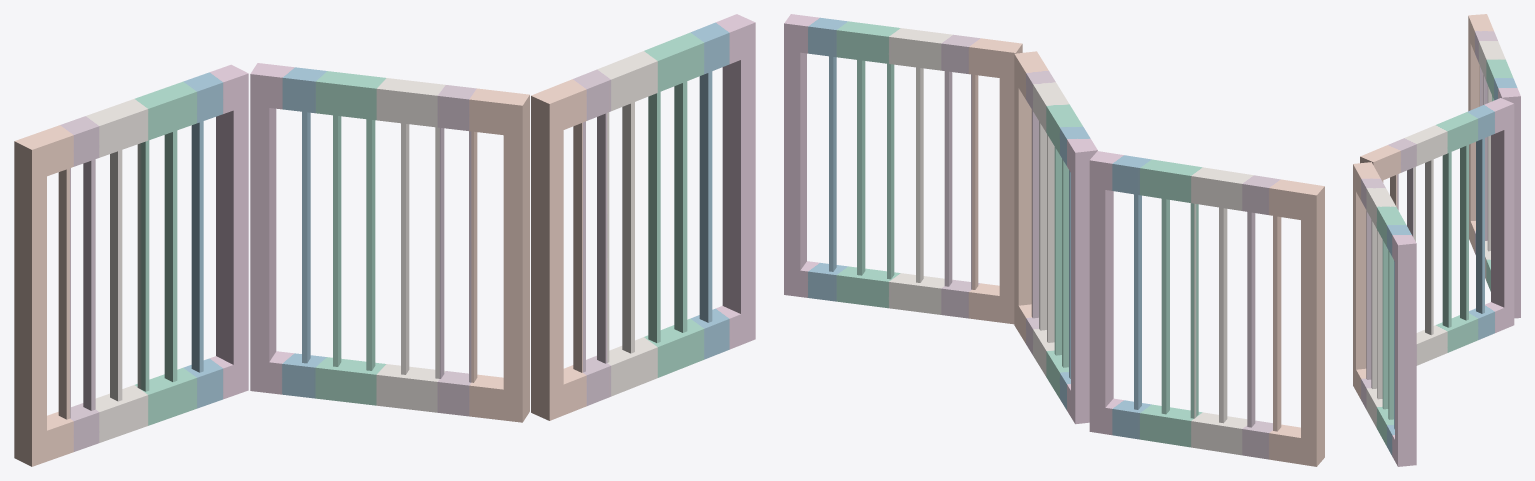
Rendered from CatGate.fbx.
3 views of the same model, side by side, from view 1: azimuth 30°, elevation 25°; view 2: azimuth 150°, elevation 25°; view 3: azimuth 270°, elevation 25° (orthographic). The views are drawn at different scales.
Visible parts, largest first — view 1: pCube1, pCube3, pCube2; view 2: pCube1, pCube3, pCube2; view 3: pCube2, pCube3, pCube1.
Boxes of the visible parts, <box> form: pCube1: <box>14,64,248,466</box>; pCube3: <box>531,14,755,420</box>; pCube2: <box>250,63,529,422</box>; pCube1: <box>1089,151,1324,466</box>; pCube3: <box>784,14,1022,324</box>; pCube2: <box>1014,51,1097,424</box>; pCube2: <box>1360,98,1514,365</box>; pCube3: <box>1353,162,1416,466</box>; pCube1: <box>1468,14,1520,318</box>.
Size of the model in its own units: 64.99 by 29.05 by 19.94.
1 material, 1 textured.
